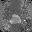people: (9, 14, 21, 24)
